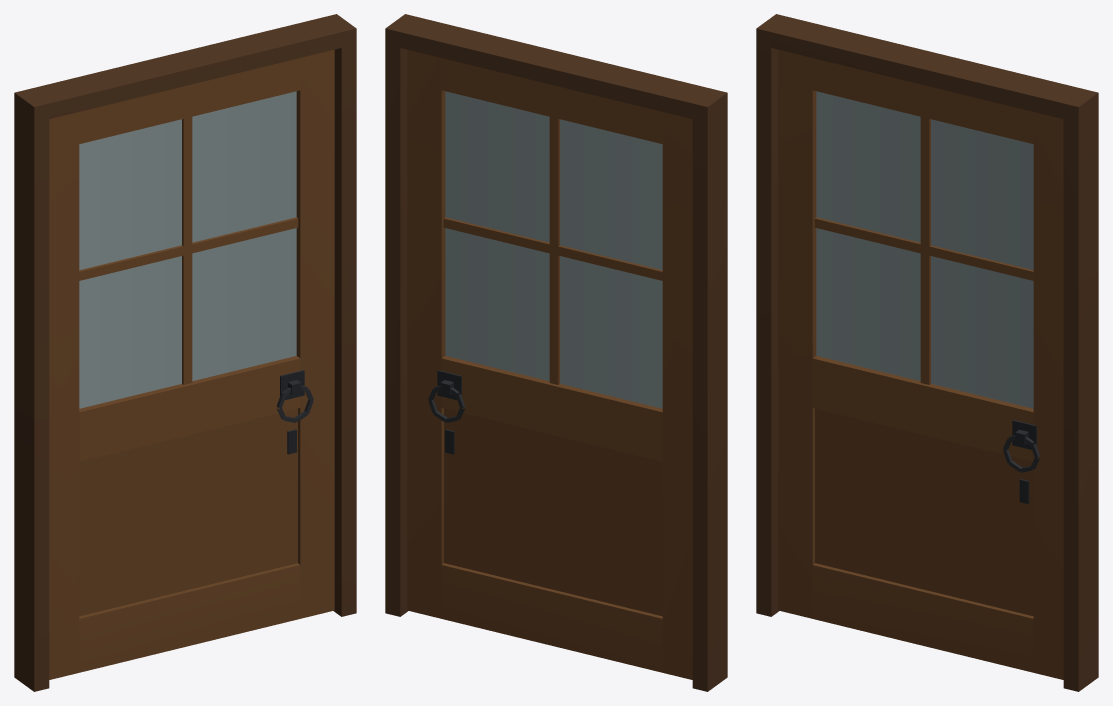
The model's file is door.oak_slim.glazed.glb.
The picture shows the model from 3 angles, left to right: view 1: azimuth 30°, elevation 25°; view 2: azimuth 150°, elevation 25°; view 3: azimuth 330°, elevation 25°; orthographic projection.
Parts seen in each view (by area): view 1: door_oak_slim_glazed; view 2: door_oak_slim_glazed; view 3: door_oak_slim_glazed.
Part boxes in pixels (x1,y1,x2,y2): door_oak_slim_glazed: (14,14,356,691); door_oak_slim_glazed: (385,14,727,691); door_oak_slim_glazed: (756,14,1098,691).
Size of what is drawn, in the model's own units: 1.5 by 2.6 by 0.16.
